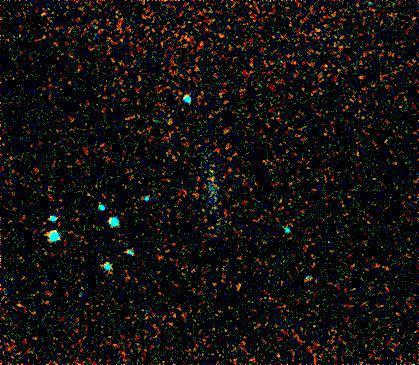star: (156, 106, 186, 136)
